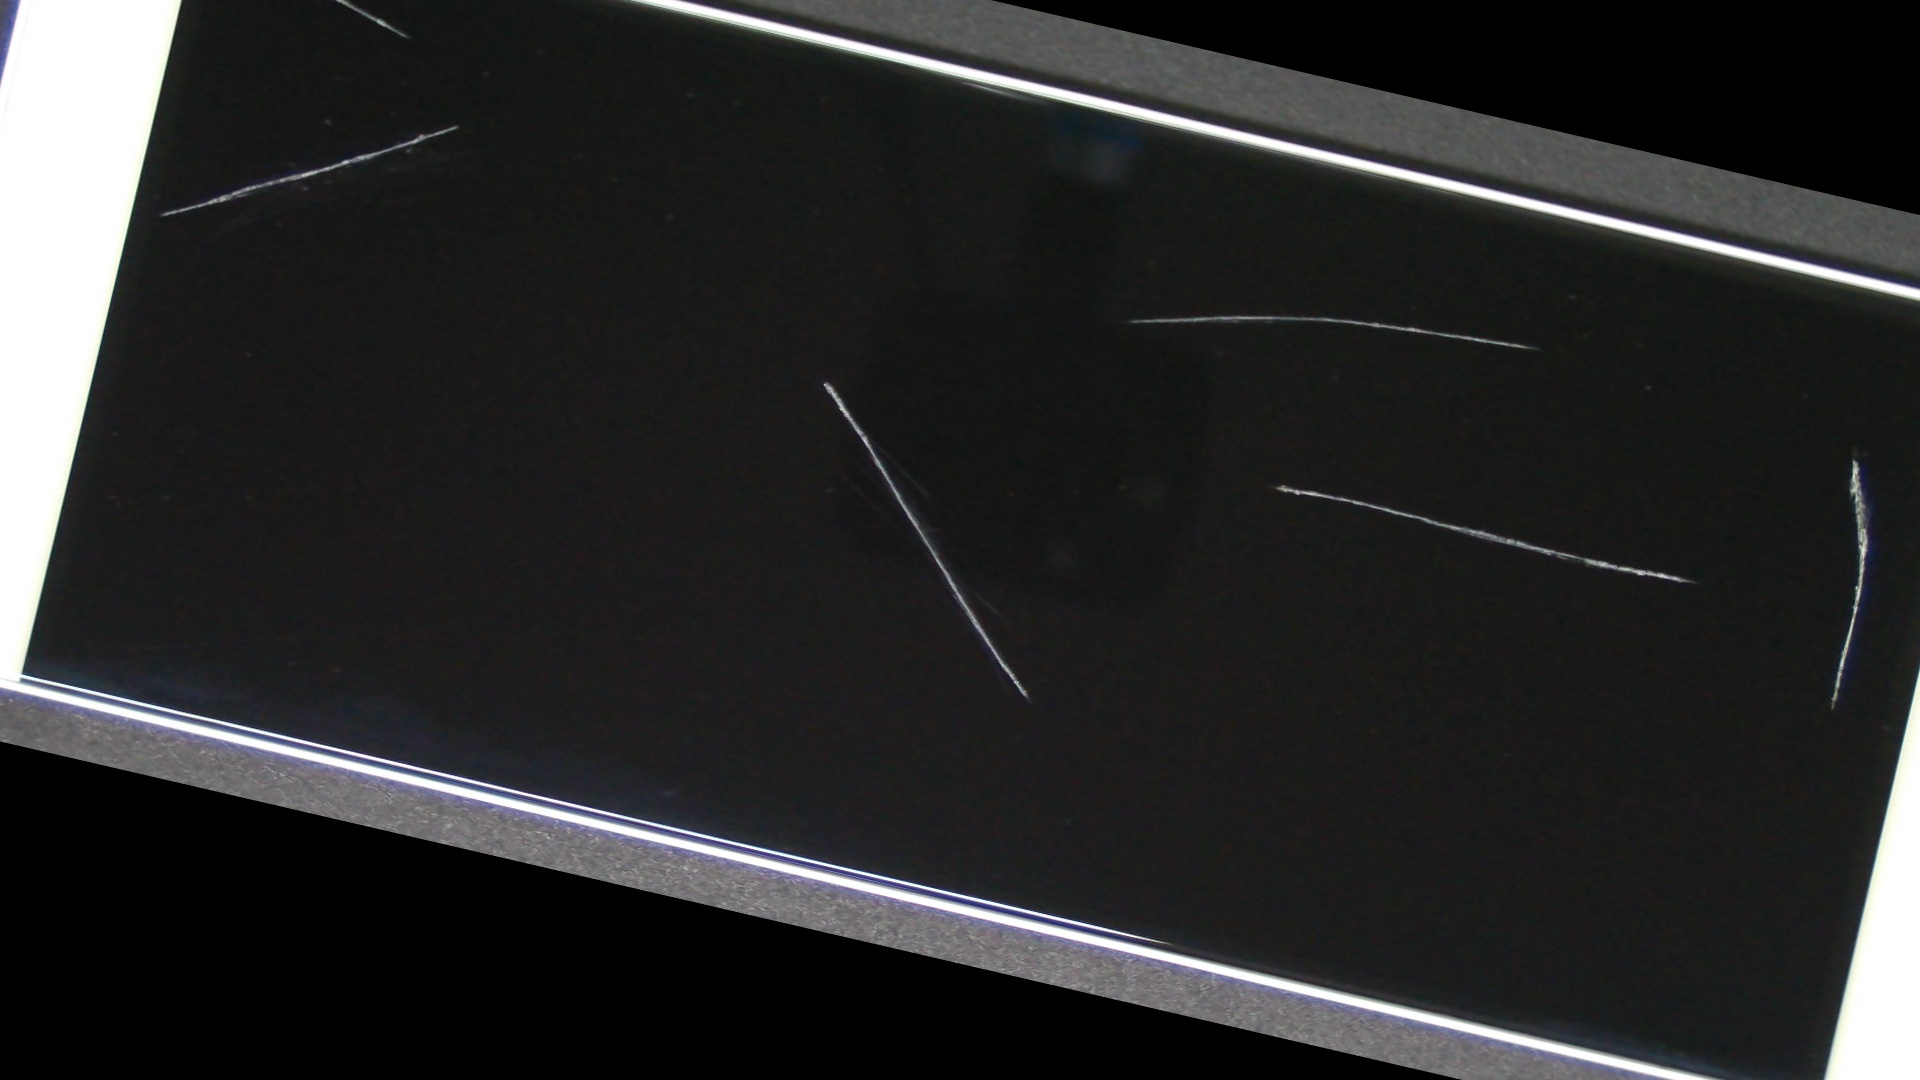oil: (580, 133, 1920, 852), (721, 58, 1920, 595), (330, 76, 1325, 683), (877, 115, 1920, 649), (182, 0, 729, 301)
